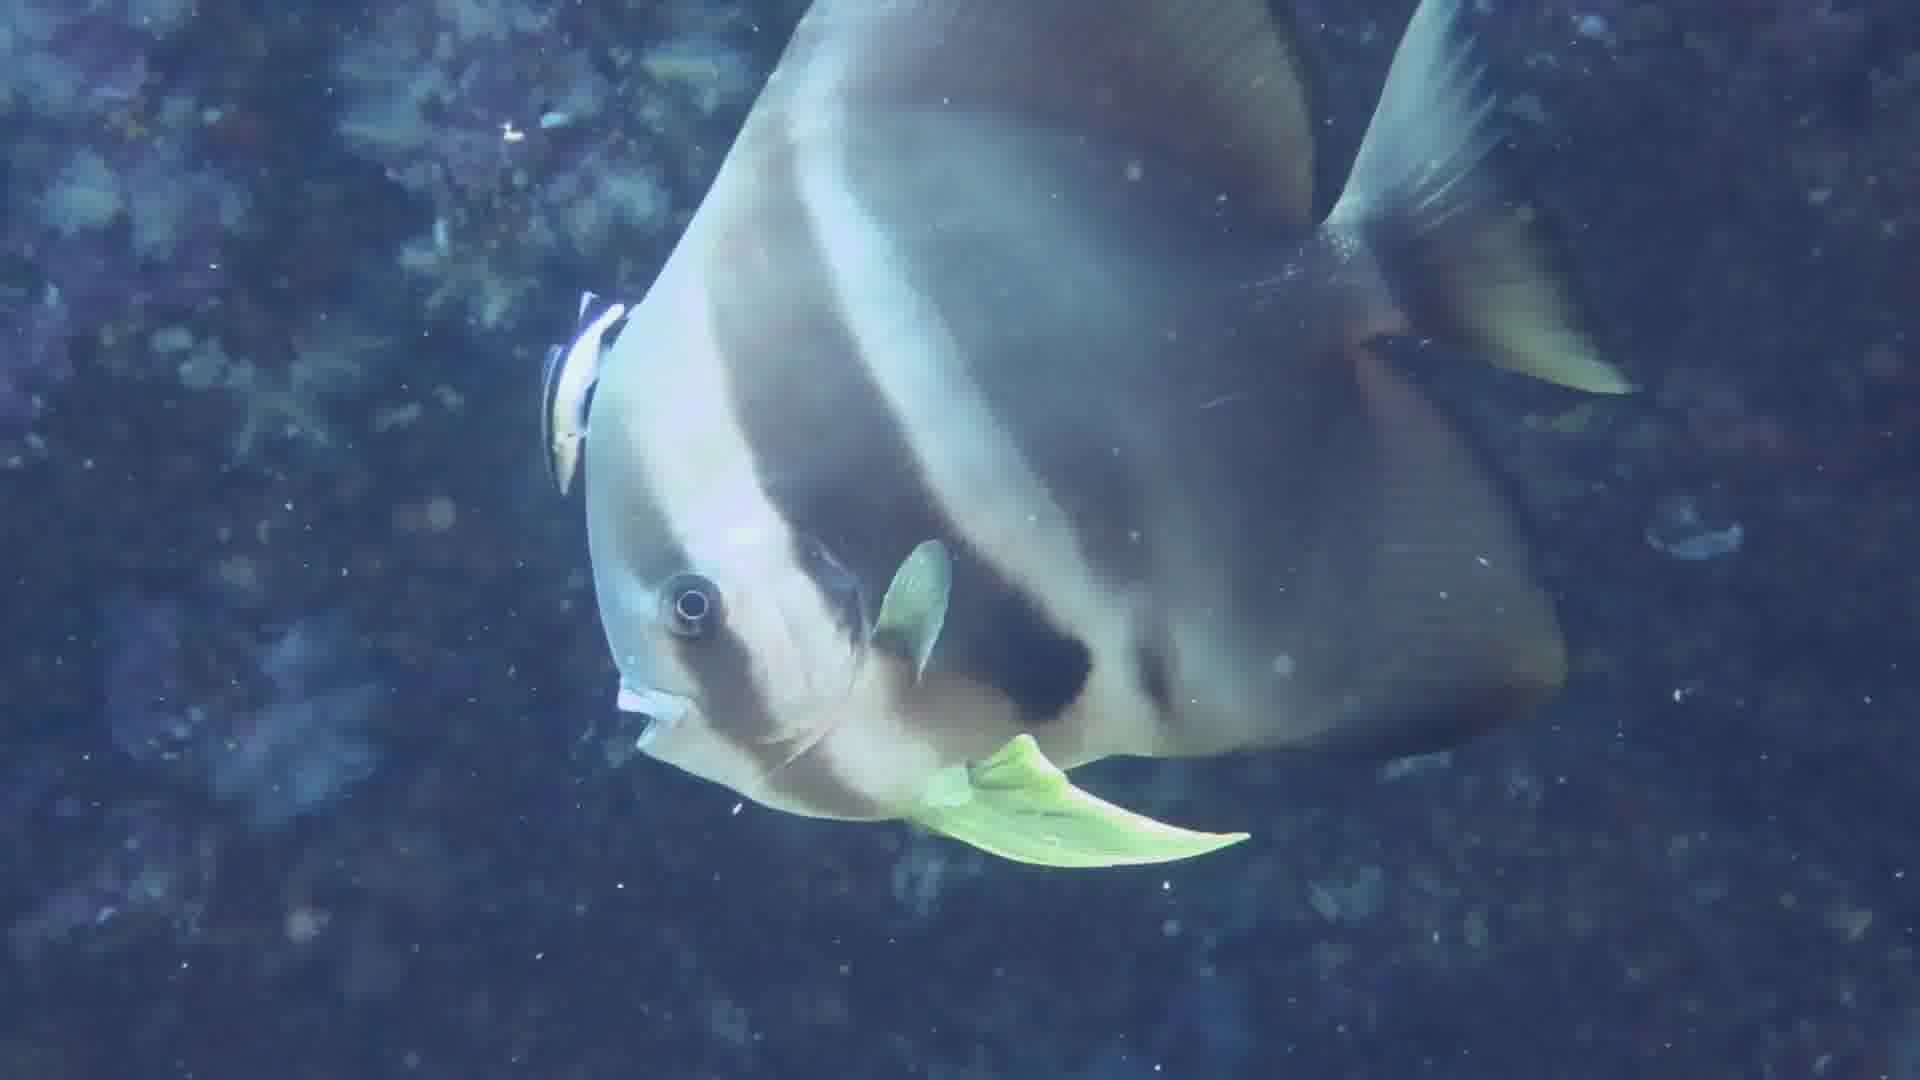Platax teira: (560, 1, 1644, 957)
